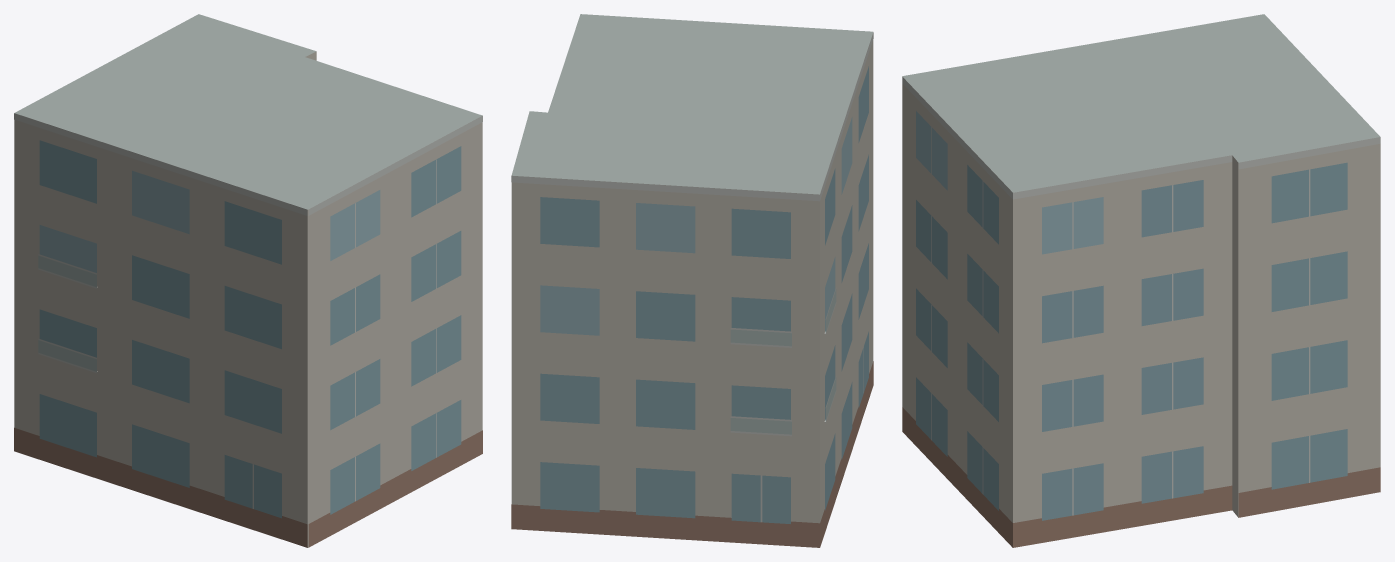
Rendered from survey-upis-32598107.glb.
The picture shows the model from 3 angles, left to right: view 1: azimuth 30°, elevation 25°; view 2: azimuth 150°, elevation 25°; view 3: azimuth 270°, elevation 25°; orthographic projection. The views are drawn at different scales.
Visible parts, largest first — view 1: survey-upis-32598107.tmp; view 2: survey-upis-32598107.tmp; view 3: survey-upis-32598107.tmp.
Part boxes in pixels (x1=…): survey-upis-32598107.tmp: x1=14, y1=14, x2=482, y2=547; survey-upis-32598107.tmp: x1=511, y1=14, x2=873, y2=547; survey-upis-32598107.tmp: x1=902, y1=14, x2=1380, y2=547.
Bounding box in the file's own units: 13.83 × 12.8 × 15.64.
